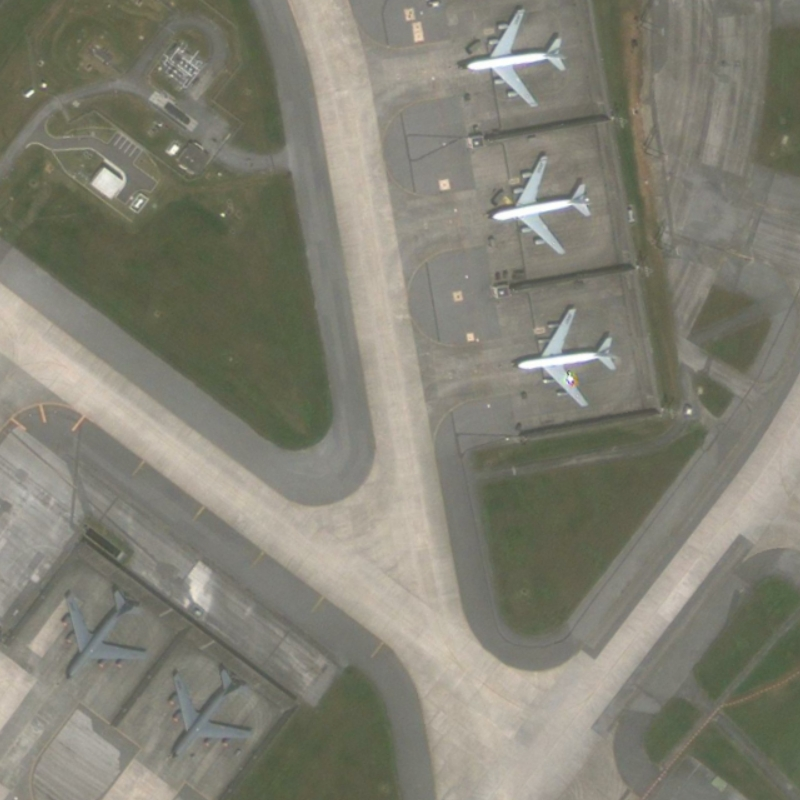A11: (450, 3, 573, 115), (508, 298, 624, 416), (483, 146, 599, 262)
A14: (160, 656, 261, 766), (52, 579, 151, 688)
